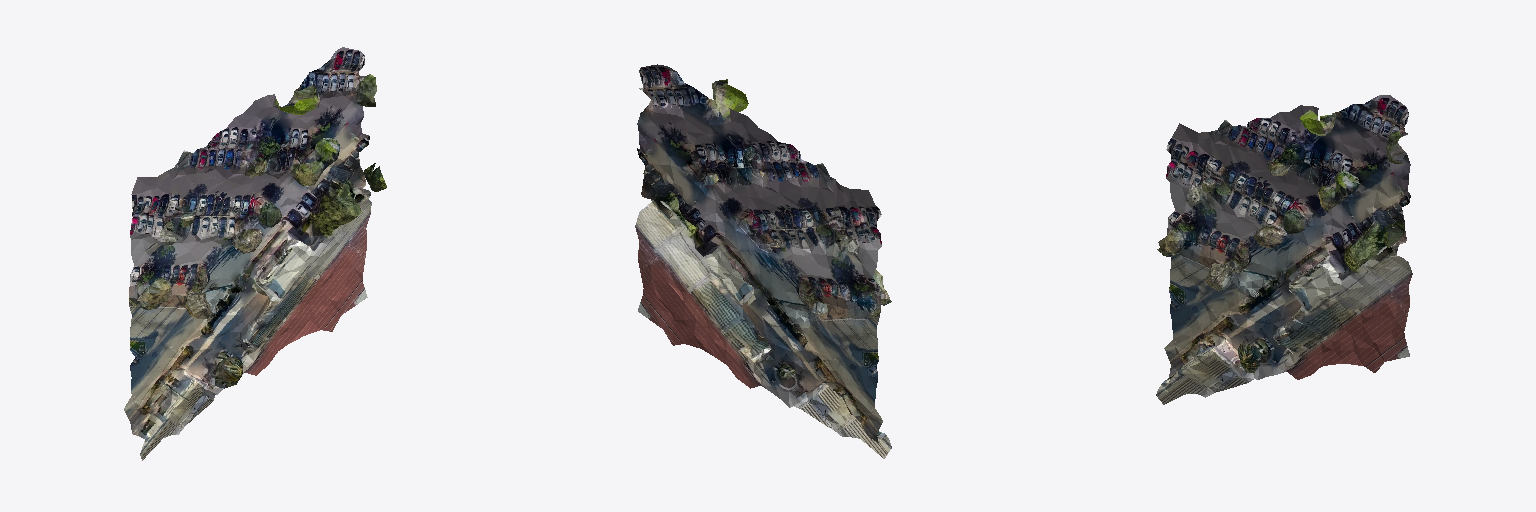
3 renders of one model, left to right at view 1: azimuth 30°, elevation 25°; view 2: azimuth 150°, elevation 25°; view 3: azimuth 330°, elevation 25°, orthographic.
Size of the model in its own units: 69.33 by 94.14 by 11.71.
1 materials, 1 textured.